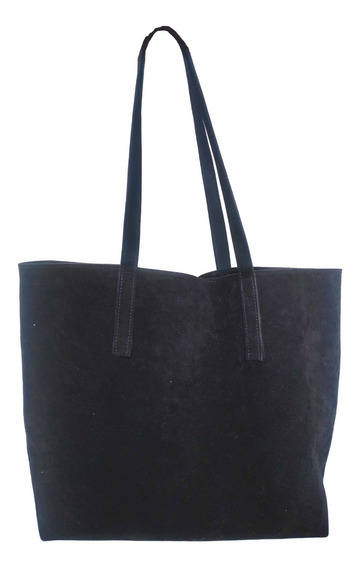cartera: (17, 25, 343, 542)
